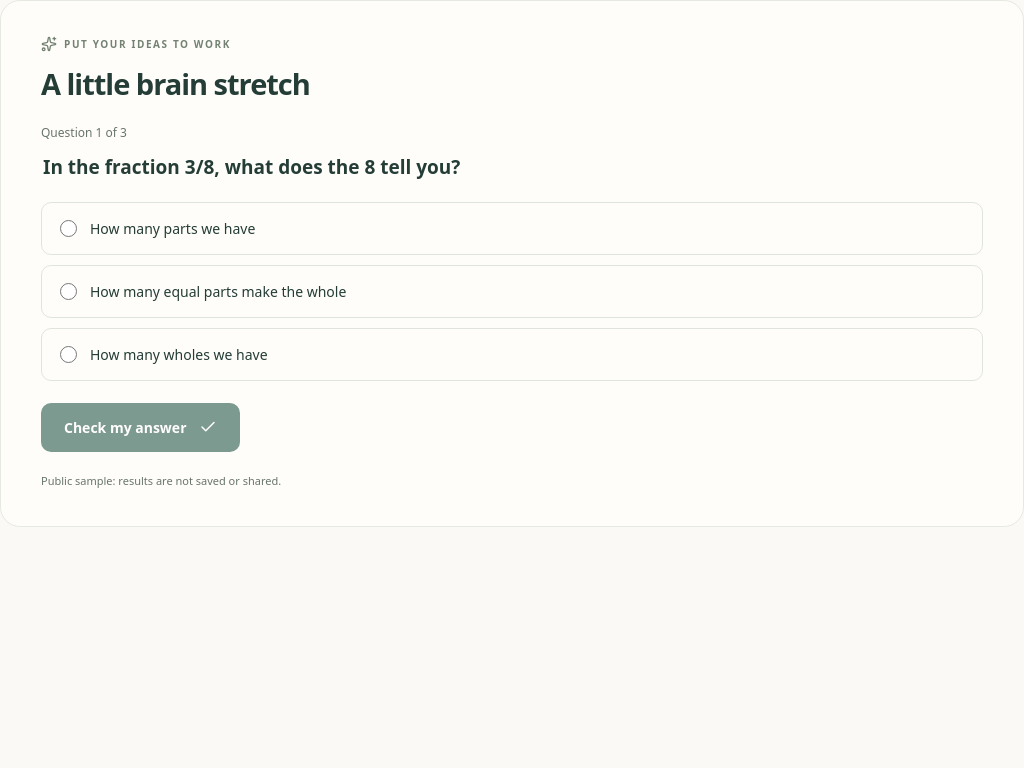
practice quiz › requires an answer, explains mistakes, and prevents changing a checked answer
This screenshot has width=1024, height=768.
Expected: the button "Check my answer" is disabled, 41,403 -> 240,452
Click the radio button labelled "How many parts we have" at (68, 228), box 60,220 -> 77,237
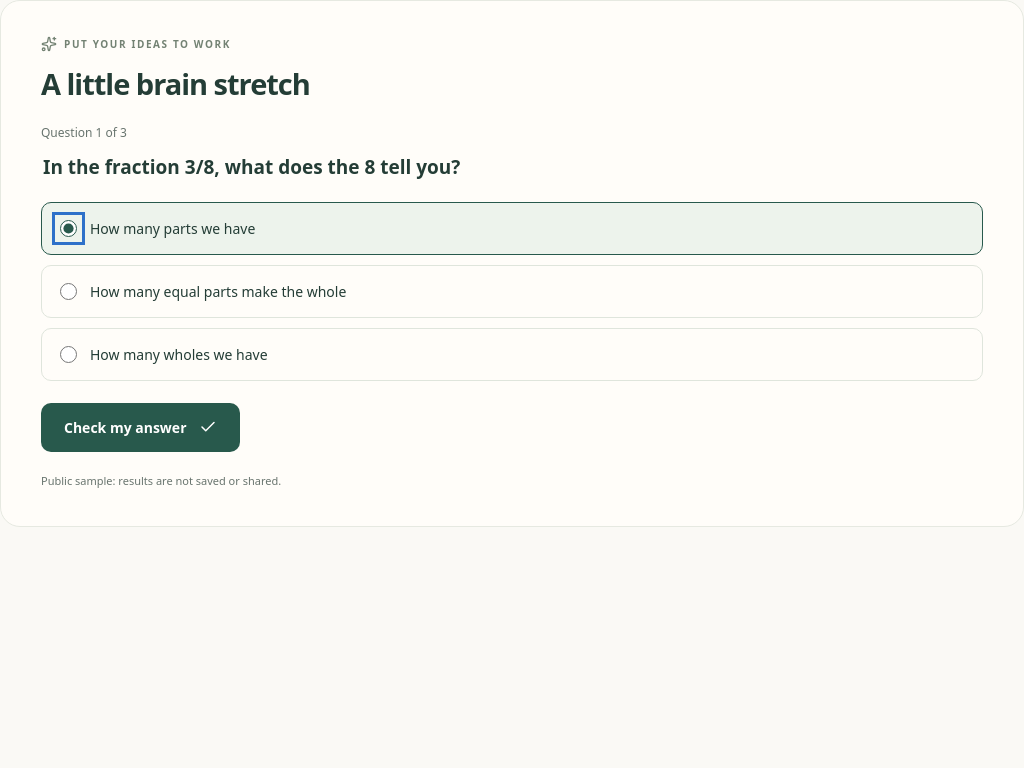
Click the button "Check my answer" at (140, 427), box 41,403 -> 240,452
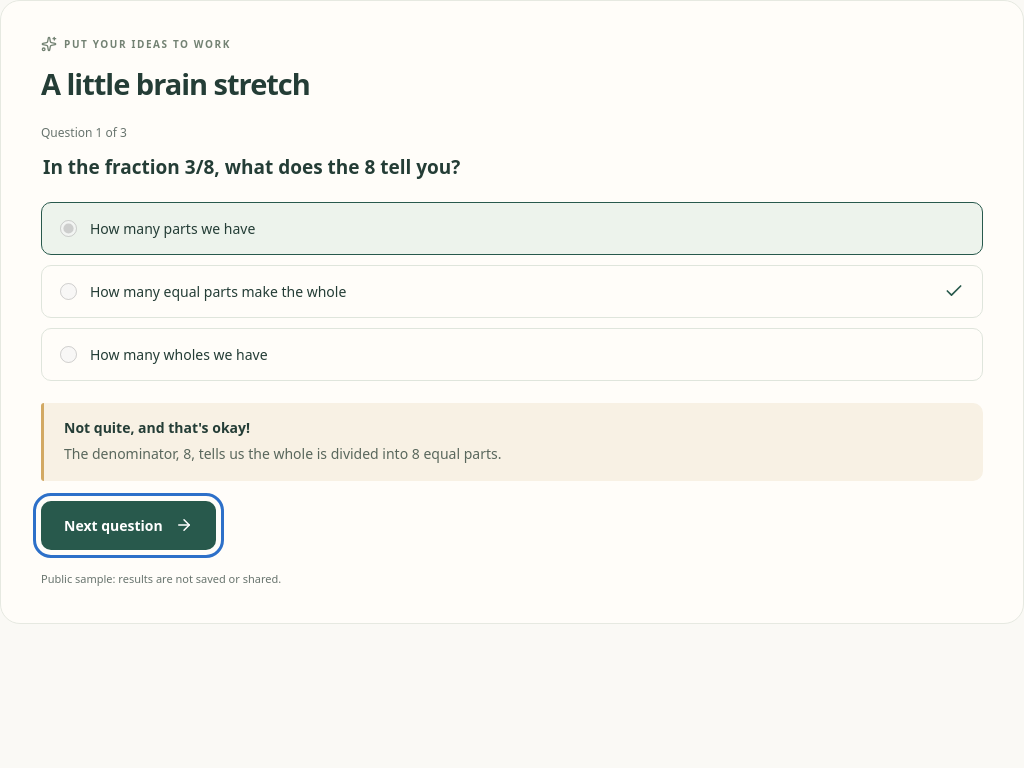
Expected: the radio button labelled "How many parts we have" is disabled, 60,220 -> 77,237
Result: the message shows "Not quite" at 64,418 -> 250,437
Result: the message shows "The denominator, 8, tells us the whole is divided into 8 equal parts." at 64,444 -> 502,463
Click the button "Next question" at (128, 525), box 41,501 -> 216,550
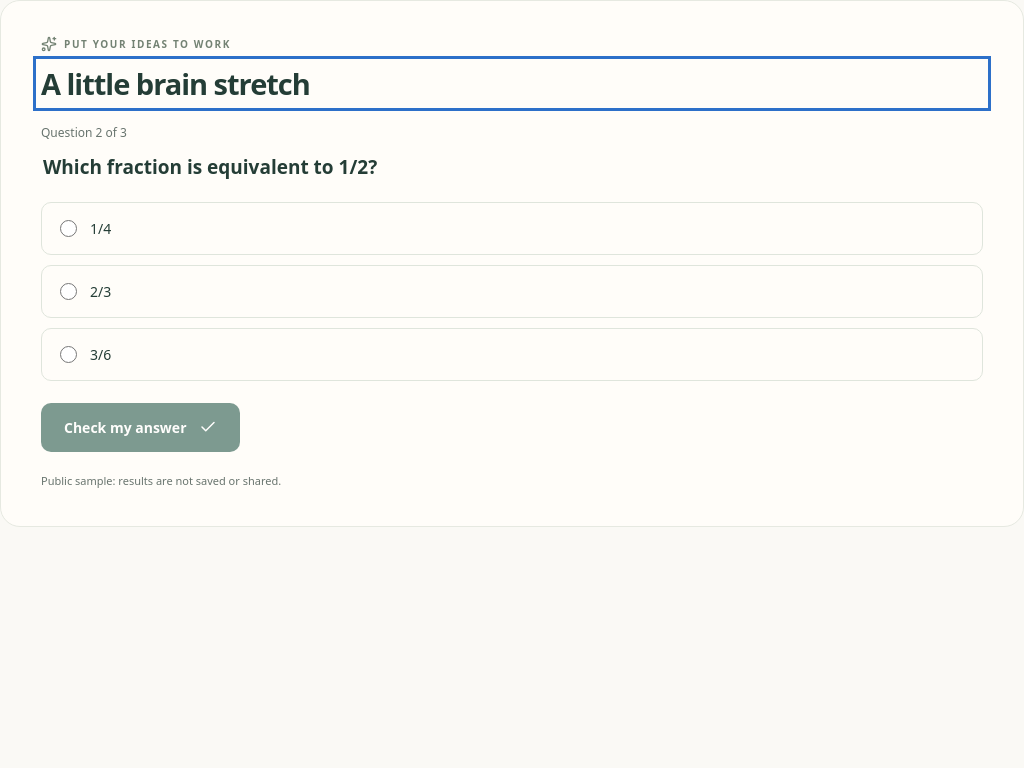
Result: the text "Question 2 of 3" is shown at 41,124 -> 127,141
Result: the button "Check my answer" is disabled at 41,403 -> 240,452
